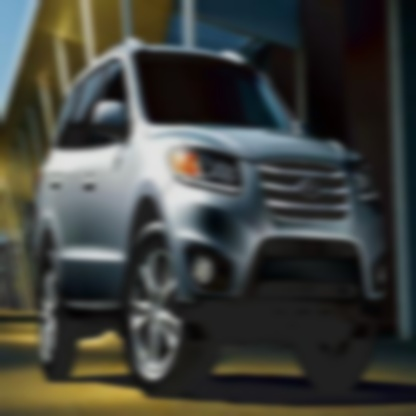Vehicle: (34, 37, 387, 400)
